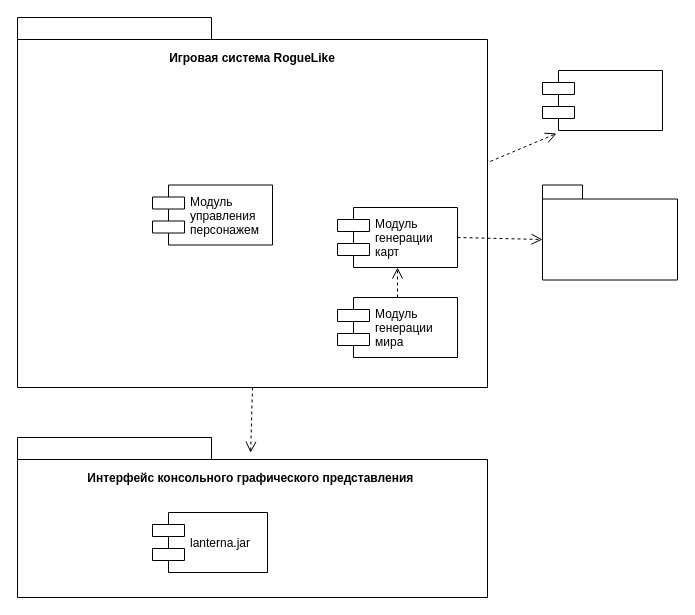
Image size: 695x615. Some labels were removed from this diagram. The shapes that lost their labels are listed below. From the top down, each one's centre as x and y in pixels, then its label:
At (602,100): "Java Runtime Environment".
At (610,232): "Каталог с картами".
